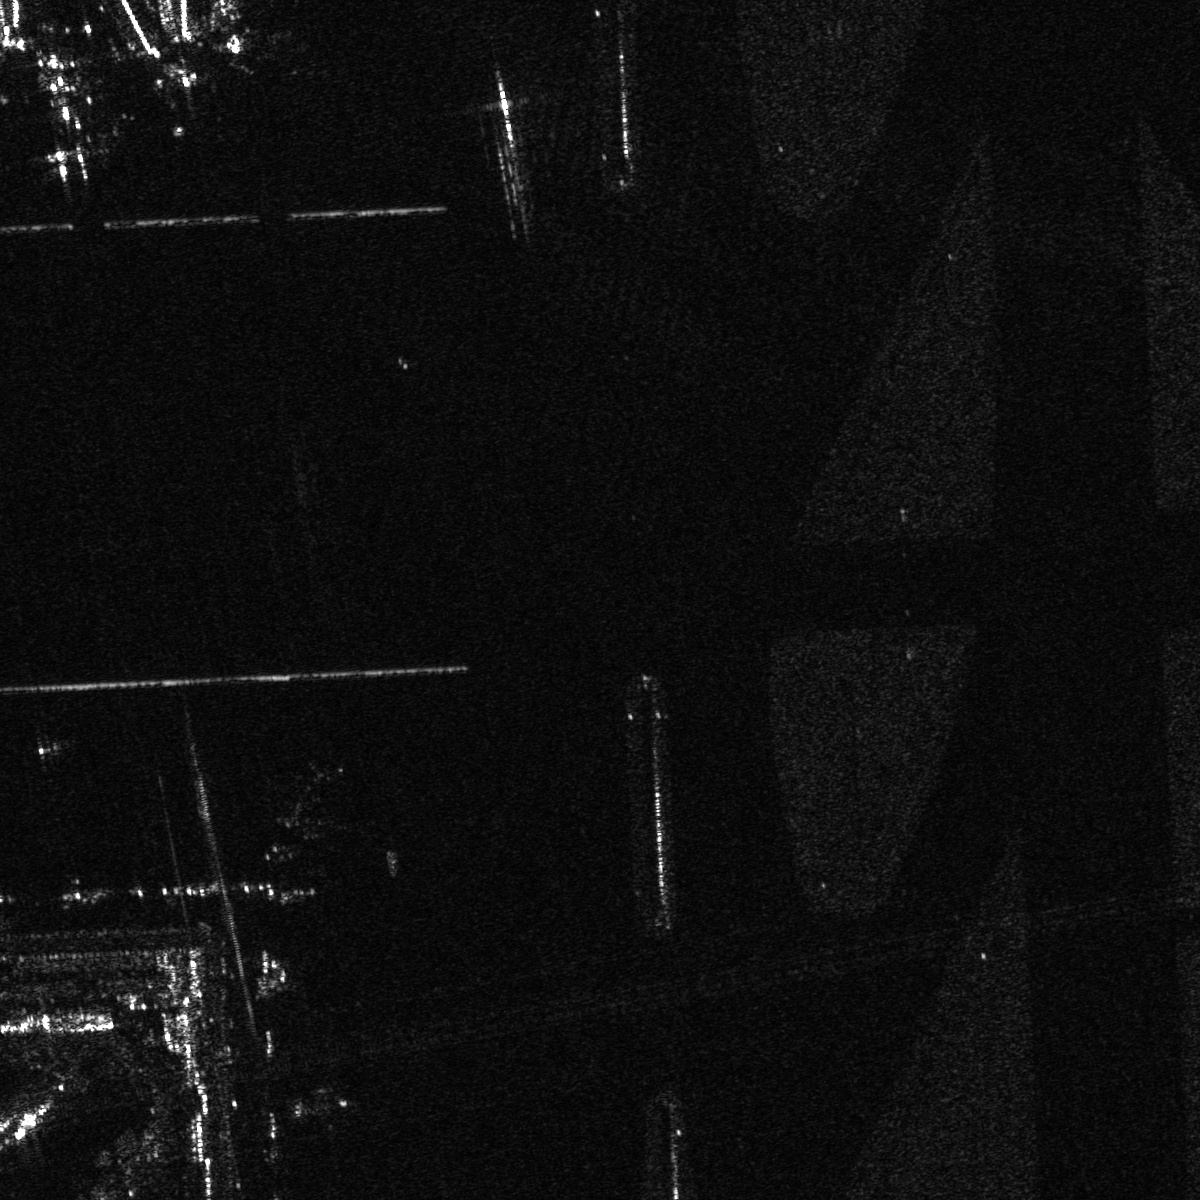A320/321: (244, 758, 340, 870)
Boeing737: (153, 64, 216, 122)
other: (21, 73, 112, 184)
